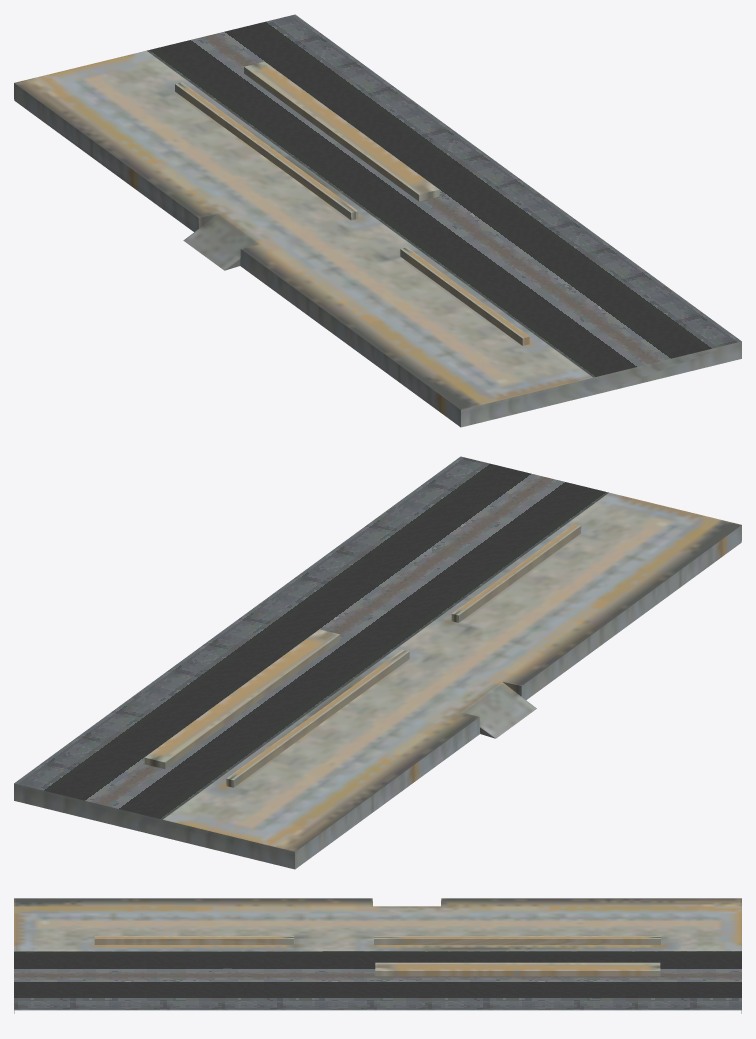
The model's file is lod_bchcostrd6.obj.
The picture shows the model from 3 angles, top to bottom: view 1: azimuth 30°, elevation 25°; view 2: azimuth 150°, elevation 25°; view 3: azimuth 270°, elevation 25°; orthographic projection. The views are drawn at different scales.
Visible parts, largest first — view 1: lod_bchcostrd6; view 2: lod_bchcostrd6; view 3: lod_bchcostrd6.
Part boxes in pixels (x1,y1,x2,y2): lod_bchcostrd6: (14,14,741,427); lod_bchcostrd6: (14,456,741,869); lod_bchcostrd6: (14,898,741,1013).
Bounding box in the file's own units: 68.57 × 6.04 × 179.
2 materials, 2 textured.
